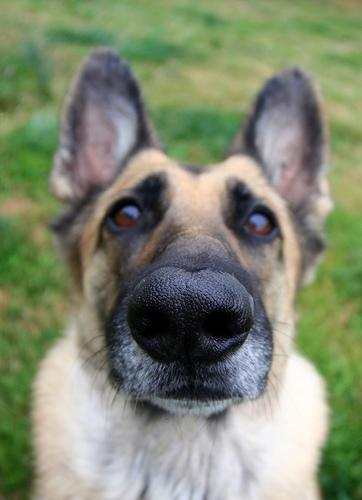German_shepherd: (27, 48, 334, 498)
